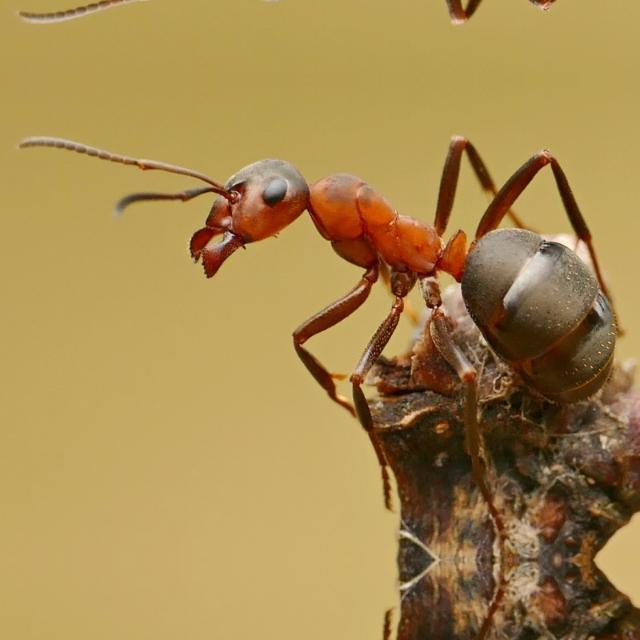Formica: (141, 106, 639, 450)
